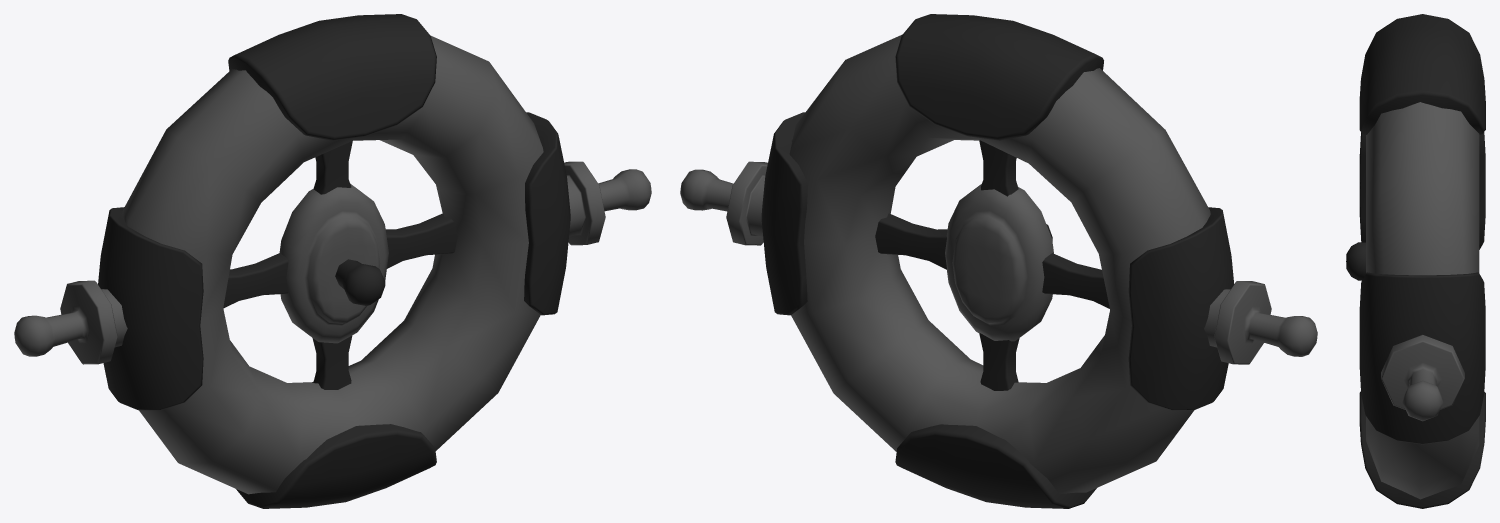
File: _objects_space_05.fbx
The picture shows the model from 3 angles, left to right: view 1: azimuth 30°, elevation 25°; view 2: azimuth 150°, elevation 25°; view 3: azimuth 270°, elevation 25°; orthographic projection. The views are drawn at different scales.
Visible parts, largest first — view 1: Оbjects_space_05; view 2: Оbjects_space_05; view 3: Оbjects_space_05.
Part boxes in pixels (x1=…): Оbjects_space_05: x1=14, y1=14, x2=651, y2=508; Оbjects_space_05: x1=680, y1=14, x2=1317, y2=508; Оbjects_space_05: x1=1346, y1=14, x2=1485, y2=508.
Bounding box in the file's own units: 142 × 101 × 28.97.
Materials: 1 (1 with a texture image).
